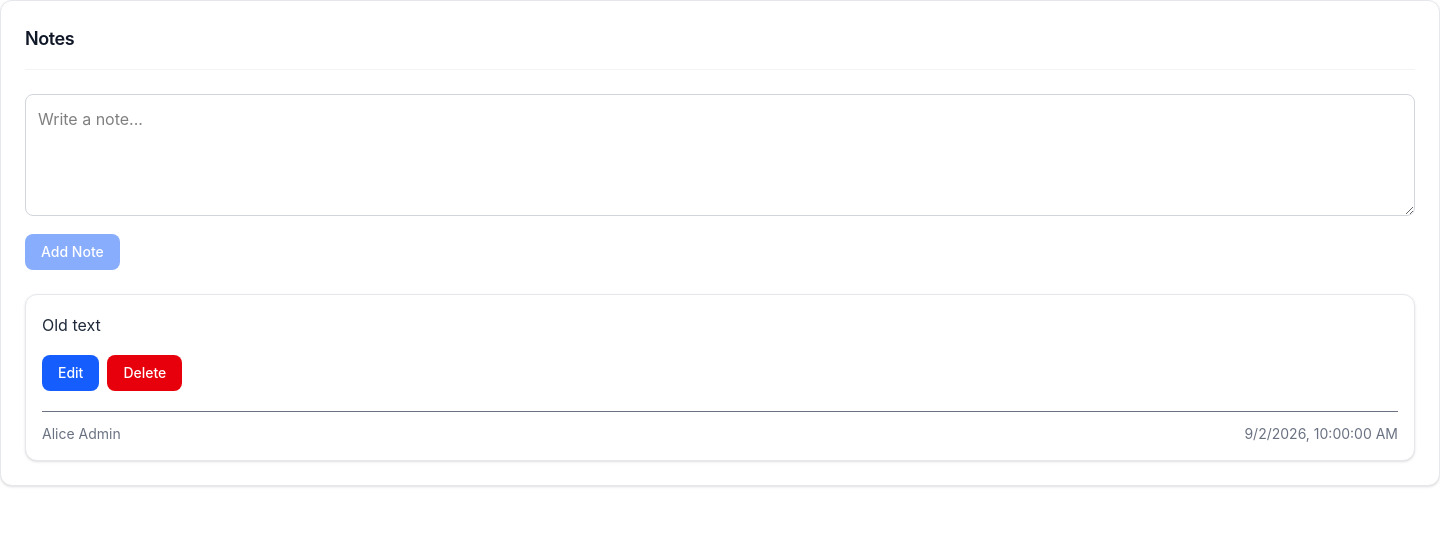
Test case: LeadNotes › edits a note in place
Check: the text "Old text" is shown, box [42, 315, 101, 335]
Click the button "Edit" at point(71, 373), box [42, 355, 99, 391]
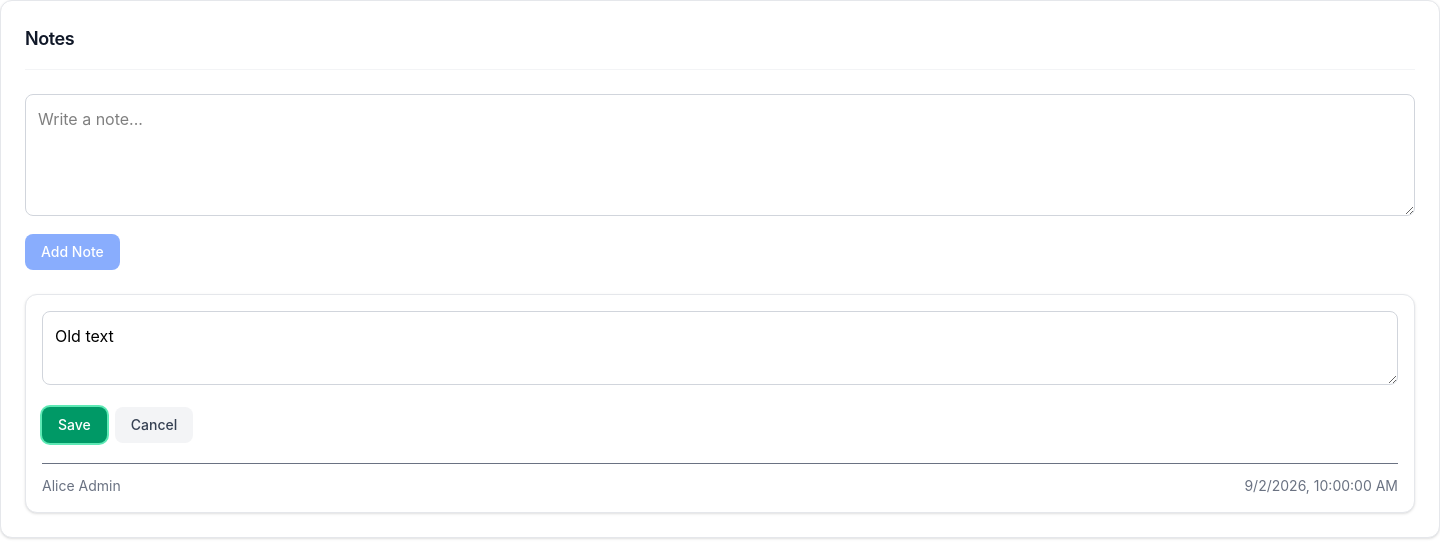
Replace the text in the text box showing "Old text" with " New text " at point(720, 348), box [42, 311, 1398, 385]
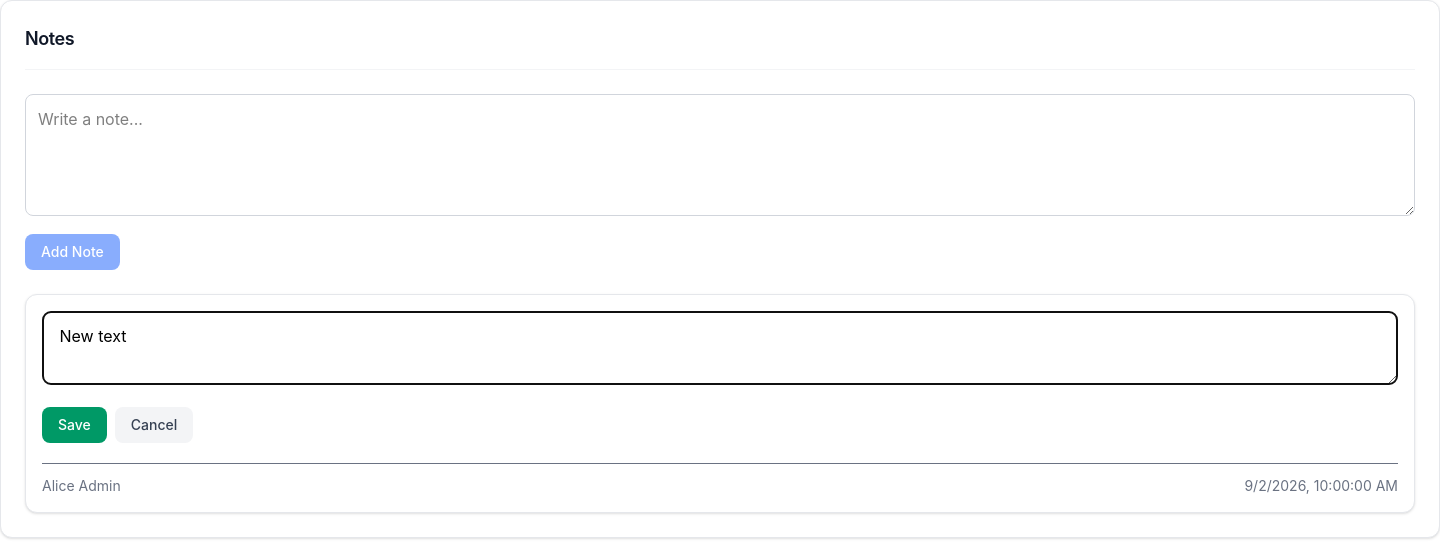
Click the button "Save" at point(74, 425), box [42, 407, 107, 443]
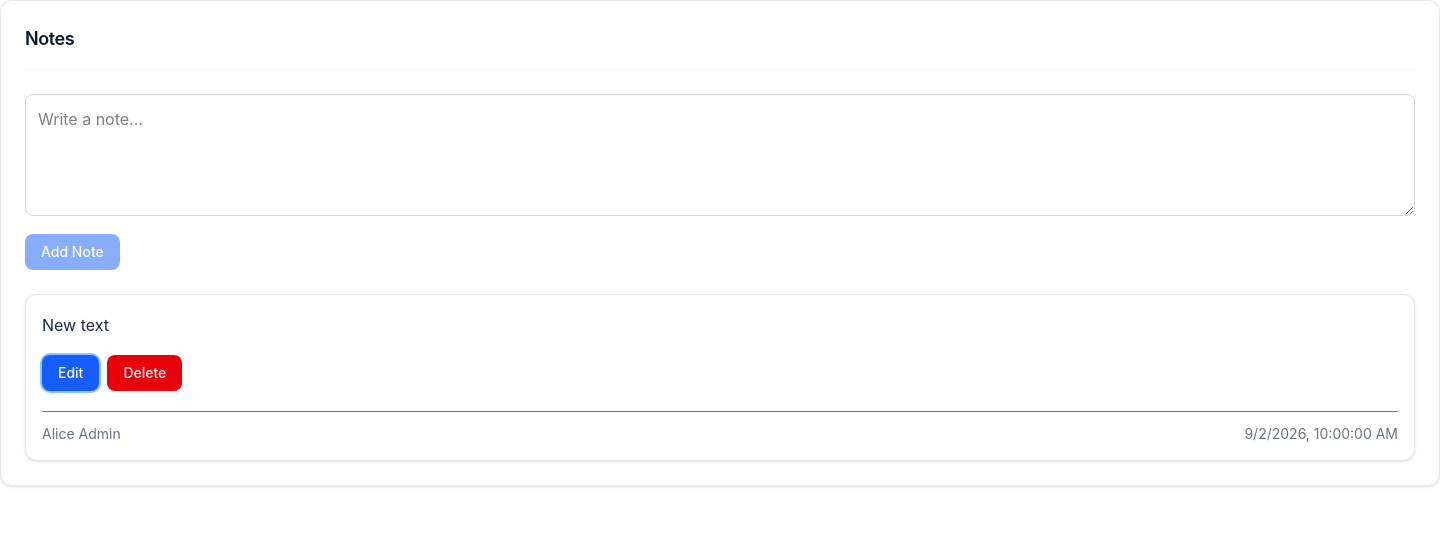
Check: the text "Old text" is not shown
Check: the text "New text" is shown, box [42, 315, 109, 335]
